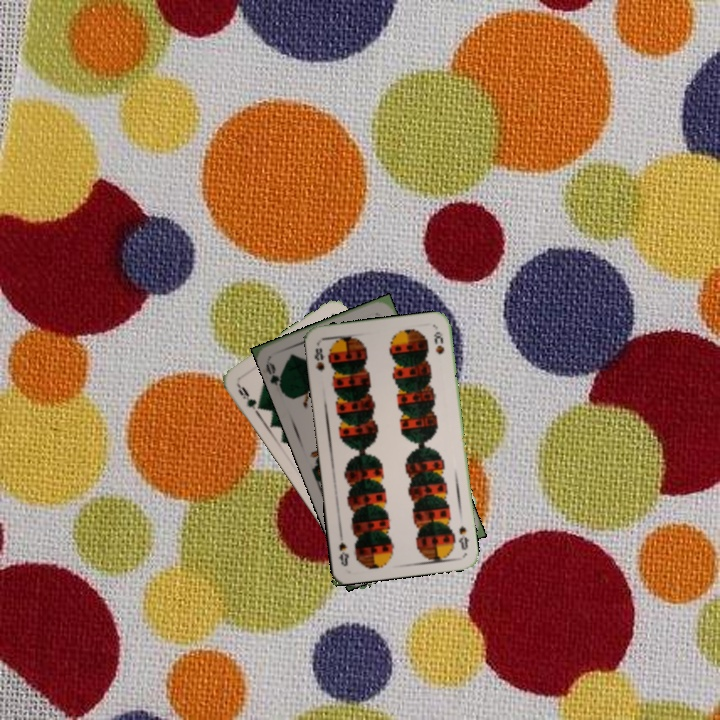G9: (233, 380, 264, 416)
GO: (262, 358, 287, 396)
S8: (454, 522, 472, 552), (310, 344, 327, 374)
